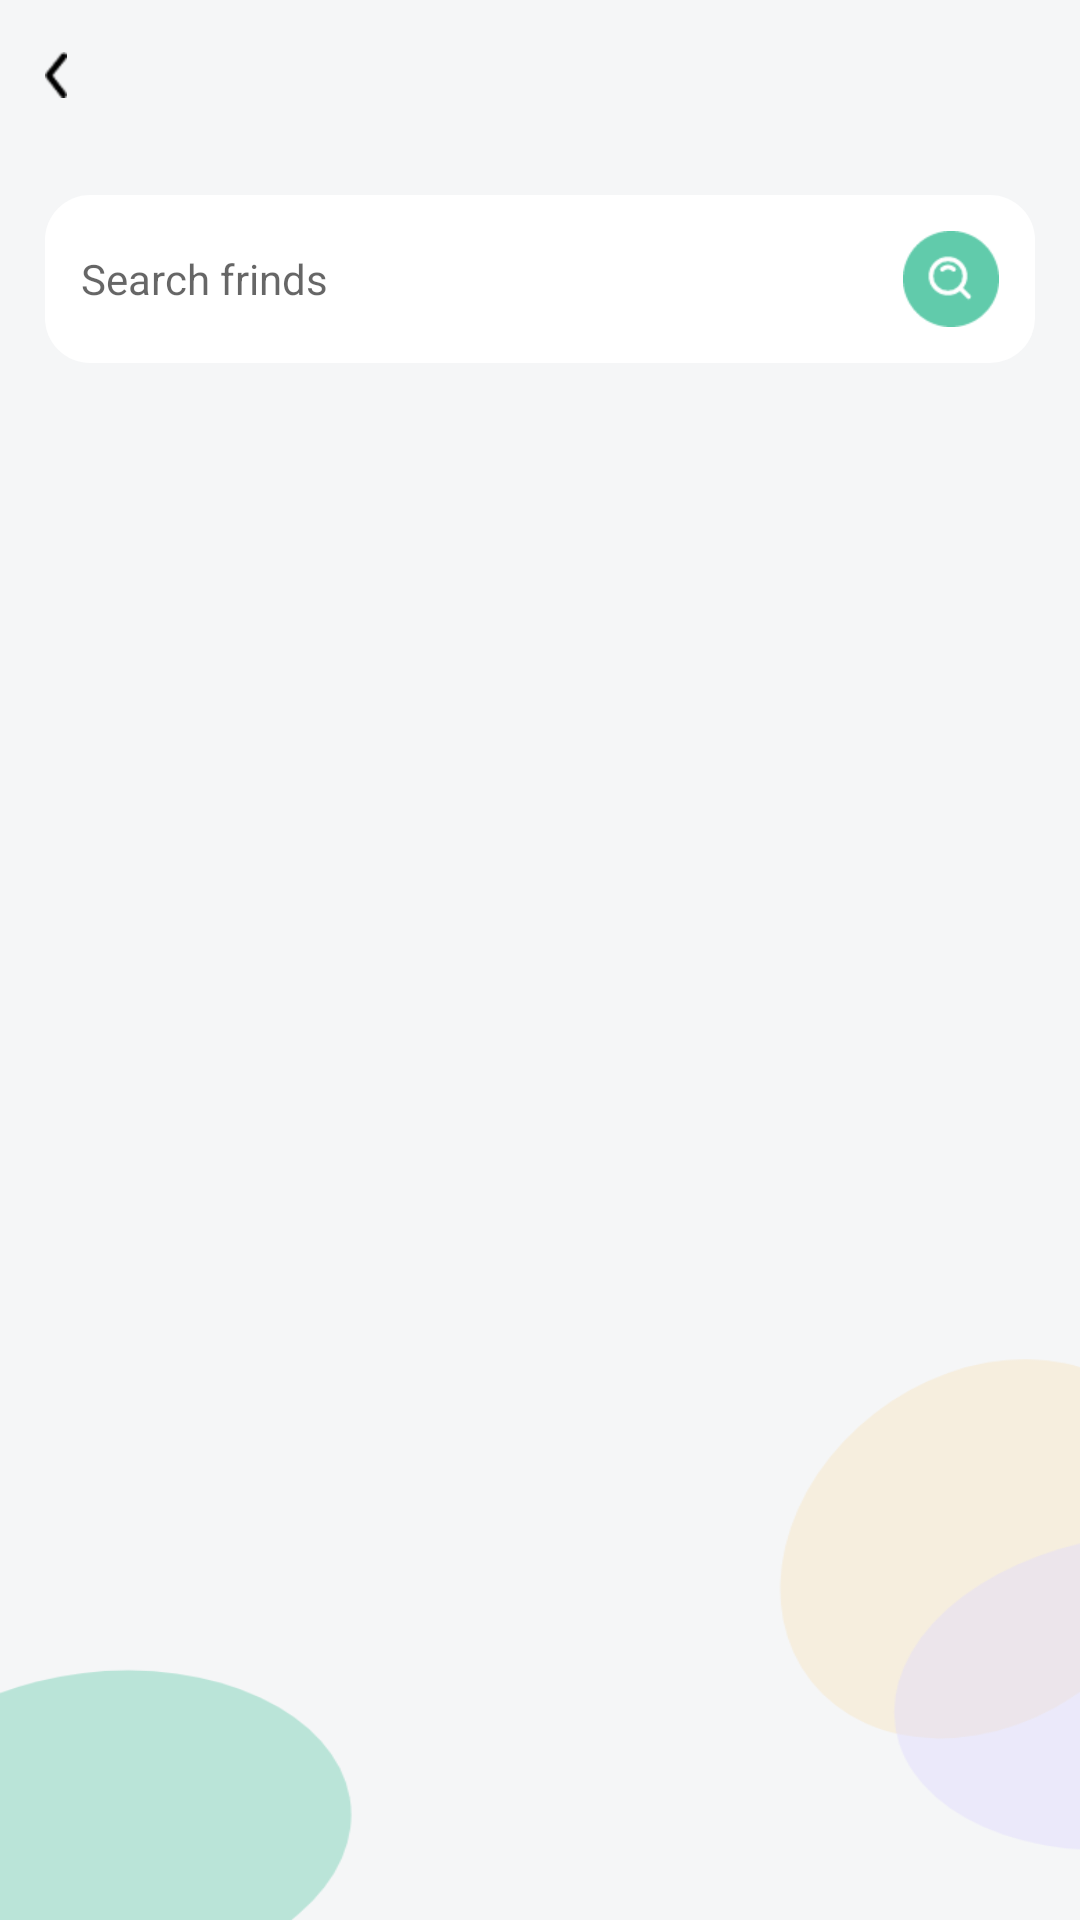

Icons on this 1080px×1920px Android screen, each with the point to tap as point (x, y):
left: point (56, 75)
